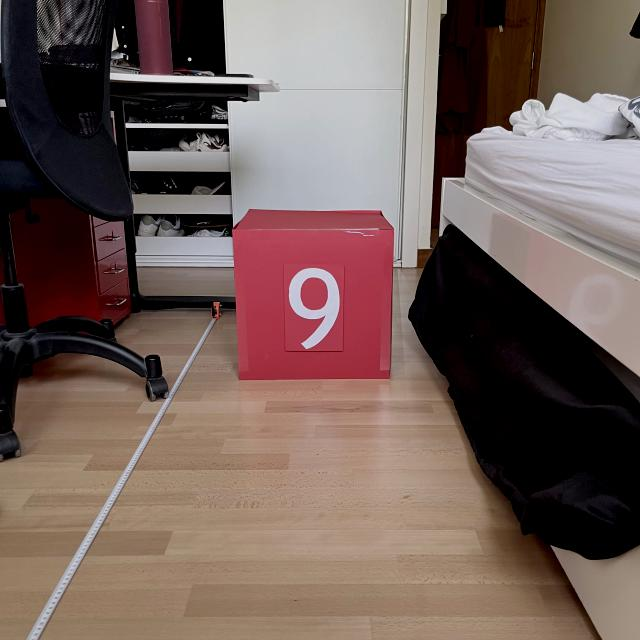box: (228, 204, 398, 383)
